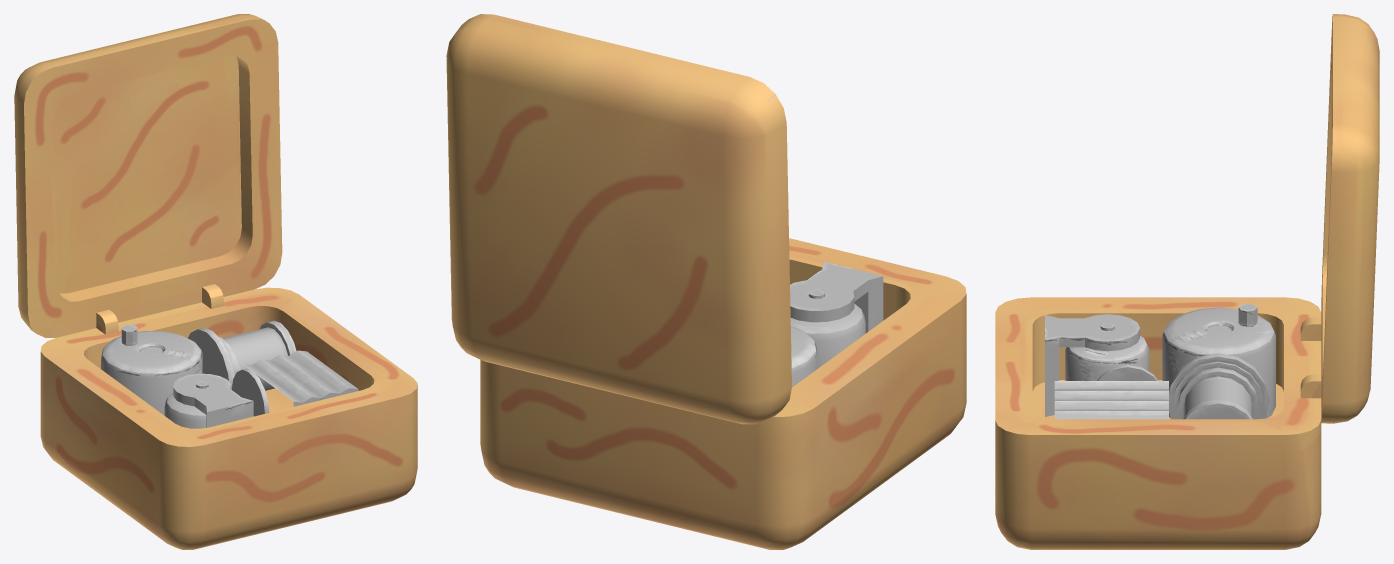
Rendered from collect.fbx.
3 renders of one model, left to right at view 1: azimuth 30°, elevation 25°; view 2: azimuth 150°, elevation 25°; view 3: azimuth 270°, elevation 25°, orthographic. The views are drawn at different scales.
Visible parts, largest first — view 1: music box; view 2: music box; view 3: music box.
Part boxes in pixels (<box>): music box: <box>14,14,417,549</box>; music box: <box>446,14,966,549</box>; music box: <box>995,14,1379,549</box>.
Bounding box in the file's own units: 200 × 286 × 236.
Materials: 1 (1 with a texture image).
